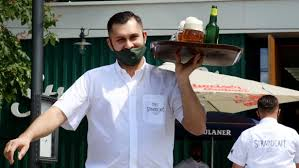mask_weared_incorrect: (113, 31, 145, 63)
